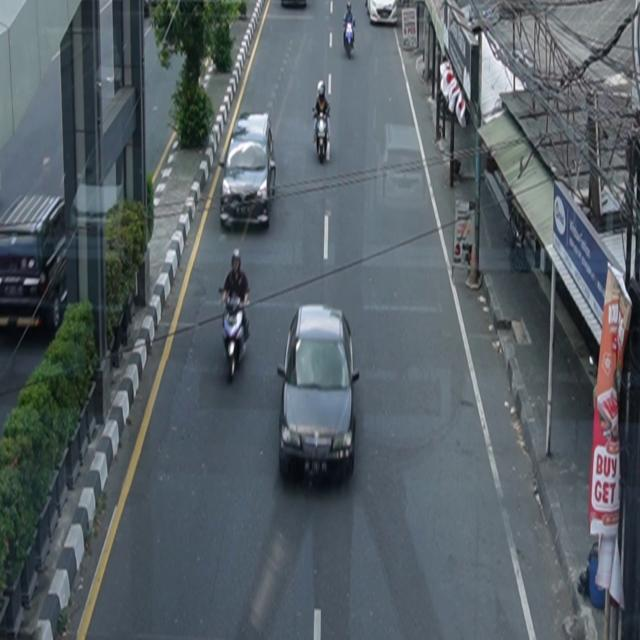car: (278, 304, 361, 484), (220, 113, 277, 231), (366, 1, 398, 26)
